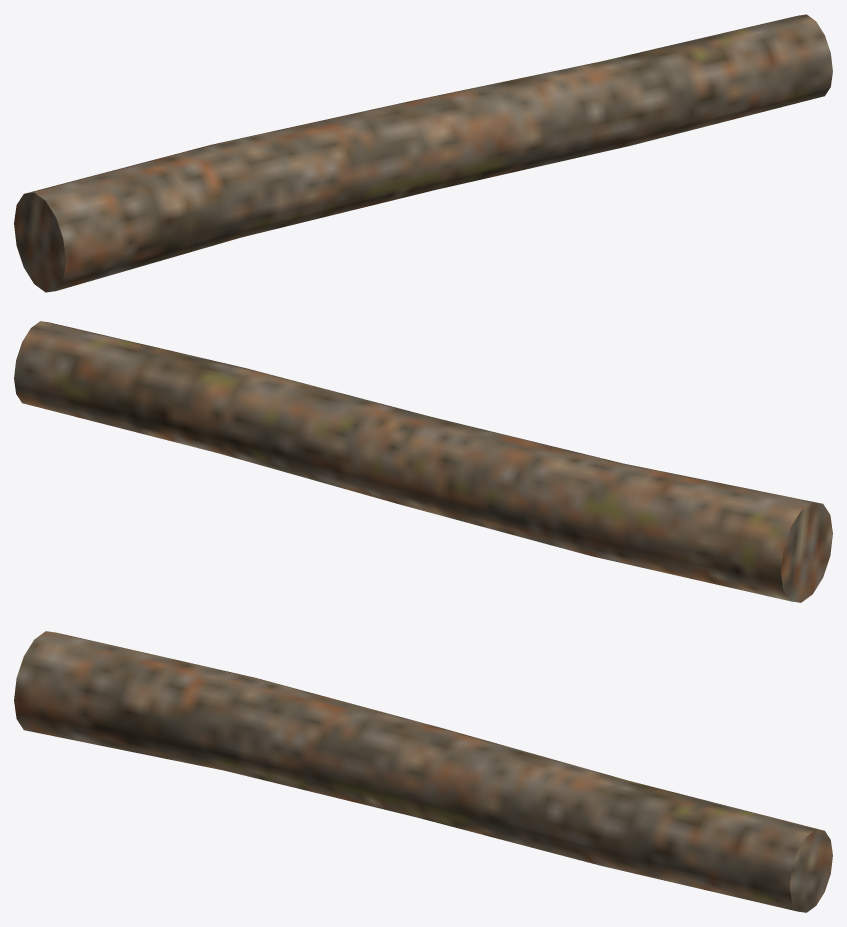
Rendered from log1.fbx.
3 views of the same model, one above another, from view 1: azimuth 30°, elevation 25°; view 2: azimuth 150°, elevation 25°; view 3: azimuth 330°, elevation 25° (orthographic).
Visible parts, largest first — view 1: Cylinder; view 2: Cylinder; view 3: Cylinder.
Boxes of the visible parts, x1,y1,x2,y2 form: Cylinder: [14, 14, 832, 292]; Cylinder: [14, 321, 832, 602]; Cylinder: [14, 631, 832, 912].
Size of the model in its own units: 373 by 42.4 by 47.54.
